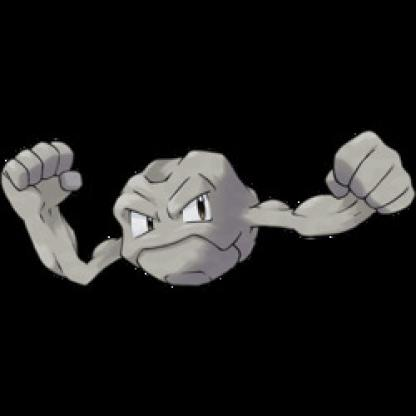Geodude: (1, 21, 416, 394)
